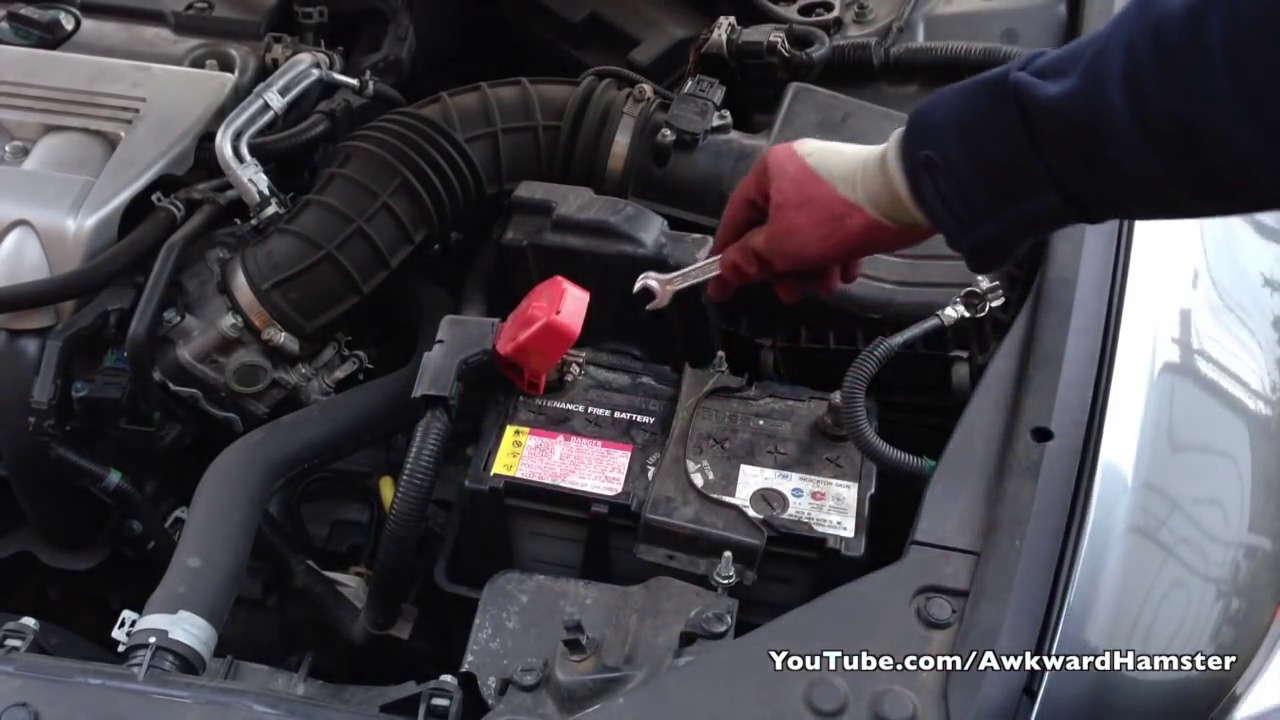battery: (443, 339, 875, 559)
neg_disconnected: (792, 358, 872, 452)
pos_connected: (468, 261, 602, 401)
